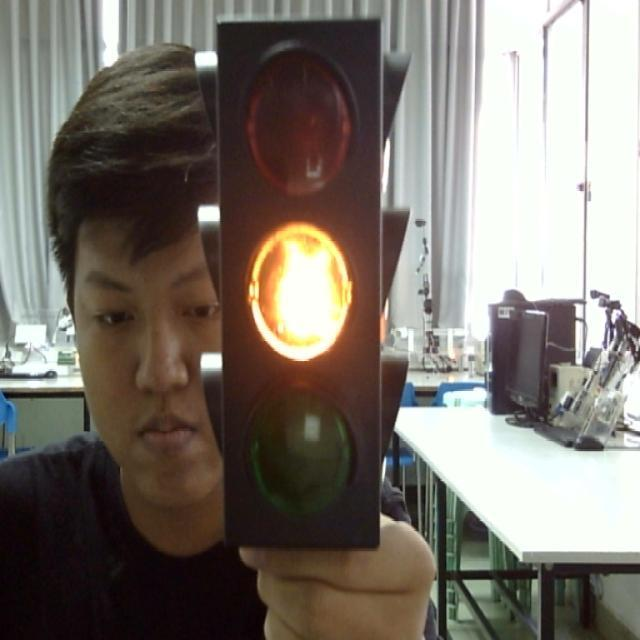yellow_light: (214, 8, 398, 564)
